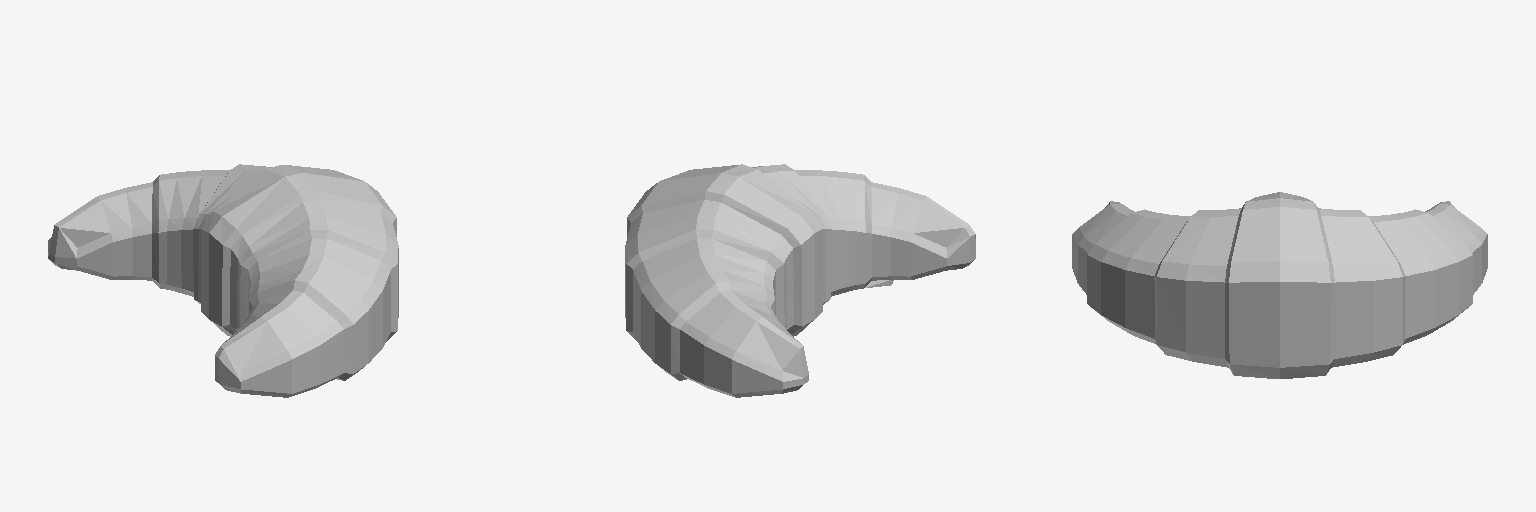
The model's file is Croissant.obj.
3 renders of one model, left to right at view 1: azimuth 30°, elevation 25°; view 2: azimuth 150°, elevation 25°; view 3: azimuth 270°, elevation 25°, orthographic.
Visible parts, largest first — view 1: Box001; view 2: Box001; view 3: Box001.
Boxes of the visible parts, <box> form: Box001: <box>48,164,398,397</box>; Box001: <box>625,164,975,397</box>; Box001: <box>1072,192,1487,378</box>.
Bounding box in the file's own units: 0.4084 × 0.2298 × 0.6.